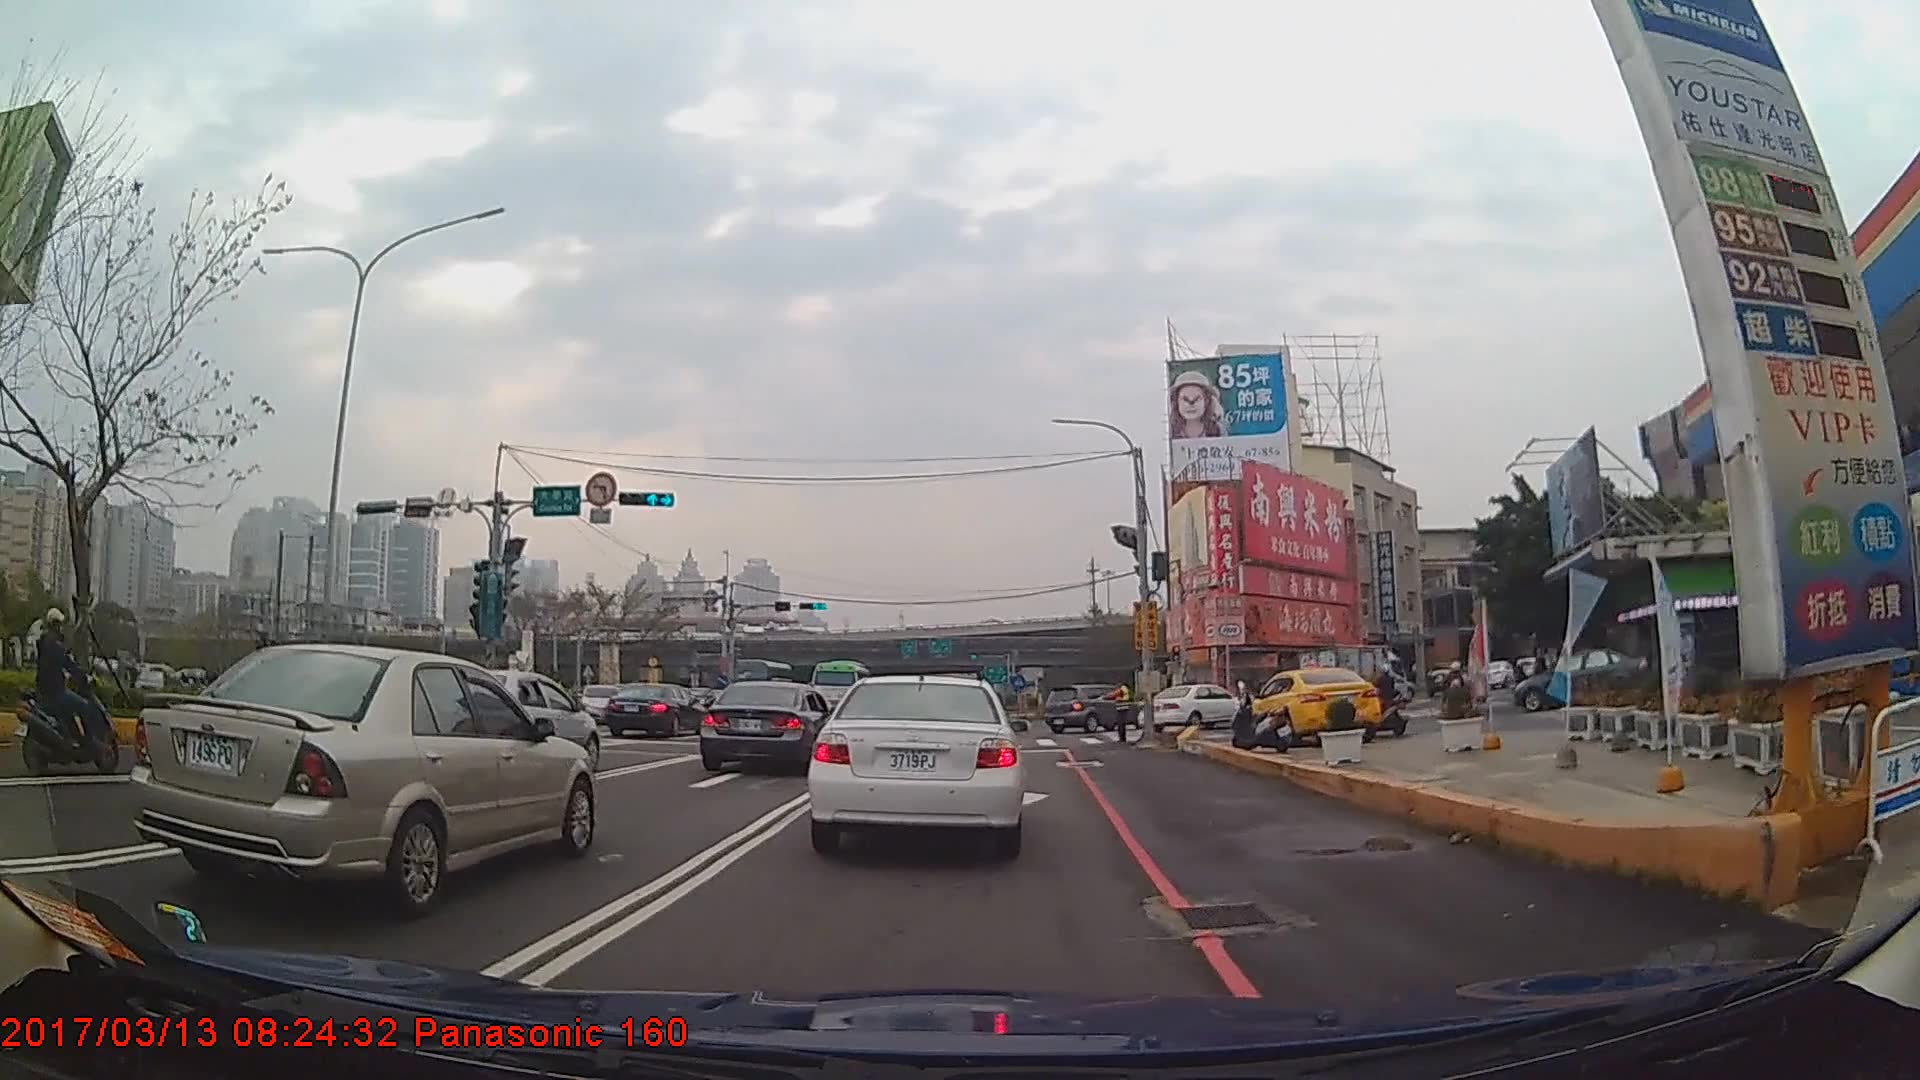pedestrian: (1099, 678, 1130, 745)
rider: (19, 611, 113, 780), (1366, 664, 1409, 739), (1440, 658, 1465, 721)
vehicle: (131, 643, 599, 913), (806, 665, 1026, 857), (695, 678, 835, 775), (1243, 664, 1382, 746), (1289, 642, 1406, 712), (1137, 680, 1248, 729), (603, 680, 700, 734), (1041, 682, 1149, 731), (806, 658, 871, 715)
